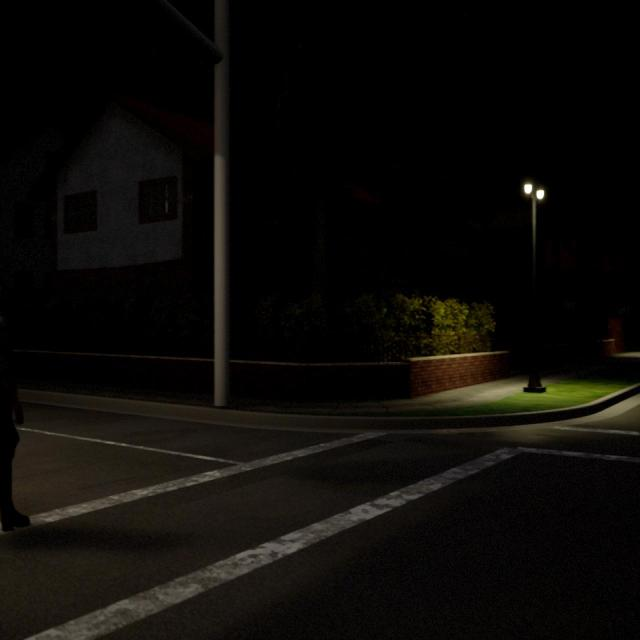Pedestrian: (0, 320, 27, 530)
